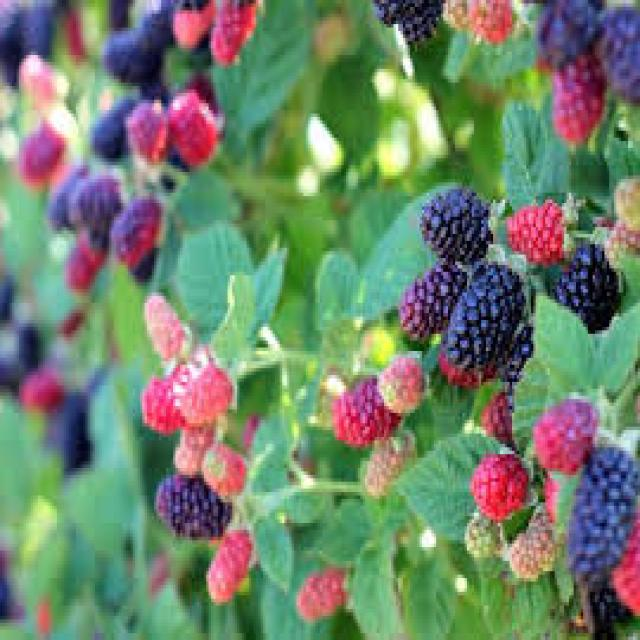biodegradable: (566, 444, 633, 564), (441, 258, 519, 361), (552, 244, 619, 341), (420, 190, 493, 269), (529, 393, 597, 472), (149, 475, 230, 537), (548, 52, 600, 141), (535, 0, 609, 58), (329, 375, 396, 437), (0, 0, 52, 79), (597, 3, 638, 100), (391, 276, 462, 331), (43, 389, 90, 468), (507, 196, 574, 251), (19, 107, 69, 179), (162, 97, 214, 166), (67, 186, 124, 248), (114, 182, 161, 255), (173, 354, 230, 413), (142, 292, 187, 365), (474, 451, 531, 506), (508, 516, 560, 575), (213, 0, 265, 58), (576, 575, 623, 637), (204, 533, 246, 599), (104, 31, 161, 79), (614, 503, 638, 613), (126, 103, 168, 165), (377, 355, 424, 410), (294, 568, 346, 616), (45, 186, 95, 234), (137, 382, 185, 427), (93, 100, 135, 151), (201, 444, 242, 495), (365, 441, 412, 485), (508, 320, 541, 382), (19, 55, 64, 100), (171, 0, 211, 48), (398, 0, 440, 41), (0, 551, 24, 620), (612, 176, 638, 238), (171, 427, 213, 465), (19, 372, 64, 406), (54, 0, 83, 52), (477, 0, 515, 38), (15, 313, 41, 368), (481, 392, 512, 434), (144, 0, 175, 41), (178, 69, 213, 100), (126, 245, 159, 276), (0, 351, 24, 389), (106, 0, 130, 34), (375, 0, 408, 24), (444, 0, 477, 24), (0, 269, 14, 307)
